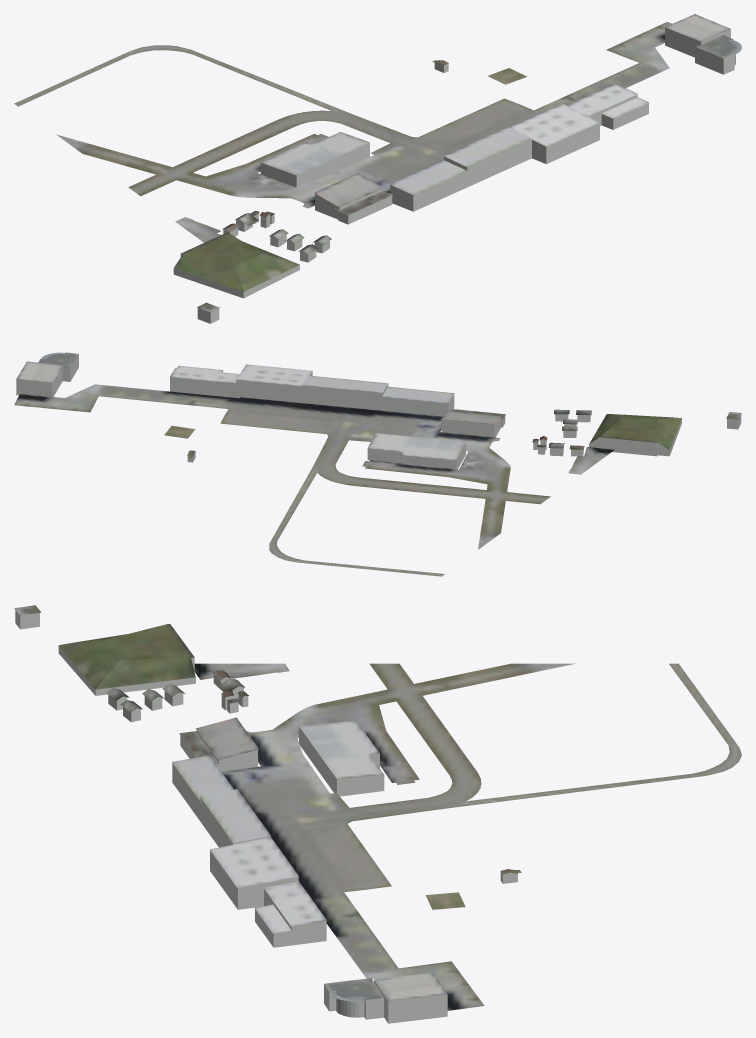
Rendered from LSGS_2_0.glb.
3 views of the same model, one above another, from view 1: azimuth 30°, elevation 25°; view 2: azimuth 150°, elevation 25°; view 3: azimuth 270°, elevation 25° (orthographic). The views are drawn at different scales.
Visible parts, largest first — view 1: pavement_LSGS_pavement_5185_2237, building_b42acc004e924d57, building_6a61e566081de7df, building_5e13ca828e7a3f13, building_0ff7e8519a415696, building_fe43bed131395c60, building_ea84a1dd4ac448ef, pavement_LSGS_pavement_5185_2238; view 2: pavement_LSGS_pavement_5185_2237, building_6a61e566081de7df, building_b42acc004e924d57, building_5e13ca828e7a3f13, building_fe43bed131395c60, building_0ff7e8519a415696, building_ea84a1dd4ac448ef, pavement_LSGS_pavement_5185_2238; view 3: pavement_LSGS_pavement_5185_2237, building_b42acc004e924d57, building_5e13ca828e7a3f13, building_6a61e566081de7df, building_0ff7e8519a415696, building_fe43bed131395c60, building_ea84a1dd4ac448ef, pavement_LSGS_pavement_5185_2238.
Part boxes in pixels (x1,y1,x2,y2): pavement_LSGS_pavement_5185_2237: (61,22,671,242); building_b42acc004e924d57: (261,103,600,214); building_6a61e566081de7df: (260,123,599,224); building_5e13ca828e7a3f13: (174,229,331,312); building_0ff7e8519a415696: (567,14,741,118); building_fe43bed131395c60: (589,27,740,129); building_ea84a1dd4ac448ef: (173,235,329,323); pavement_LSGS_pavement_5185_2238: (14,45,278,137); pavement_LSGS_pavement_5185_2237: (14,384,614,546); building_6a61e566081de7df: (236,372,505,469); building_b42acc004e924d57: (236,364,505,460); building_5e13ca828e7a3f13: (554,409,741,450); building_fe43bed131395c60: (16,354,236,397); building_0ff7e8519a415696: (16,352,242,384); building_ea84a1dd4ac448ef: (555,414,741,456); pavement_LSGS_pavement_5185_2238: (269,501,481,576); pavement_LSGS_pavement_5185_2237: (194,663,563,1010); building_b42acc004e924d57: (172,717,383,888); building_5e13ca828e7a3f13: (14,605,195,712); building_6a61e566081de7df: (172,727,384,909); building_0ff7e8519a415696: (254,881,447,1001); building_fe43bed131395c60: (255,889,447,1023); building_ea84a1dd4ac448ef: (15,610,195,722); pavement_LSGS_pavement_5185_2238: (563,663,741,793).
Bounding box in the file's own units: 496 × 15.89 × 377.
Materials: 3 (2 with a texture image).
